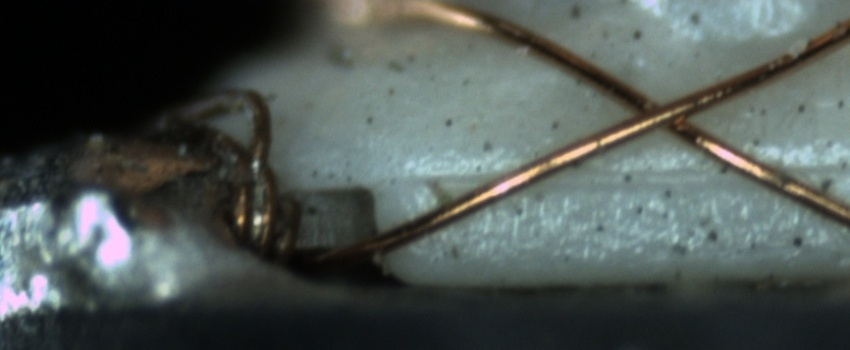CL: (610, 78, 718, 145)
DL: (415, 146, 849, 199)
TE: (149, 78, 289, 259)
